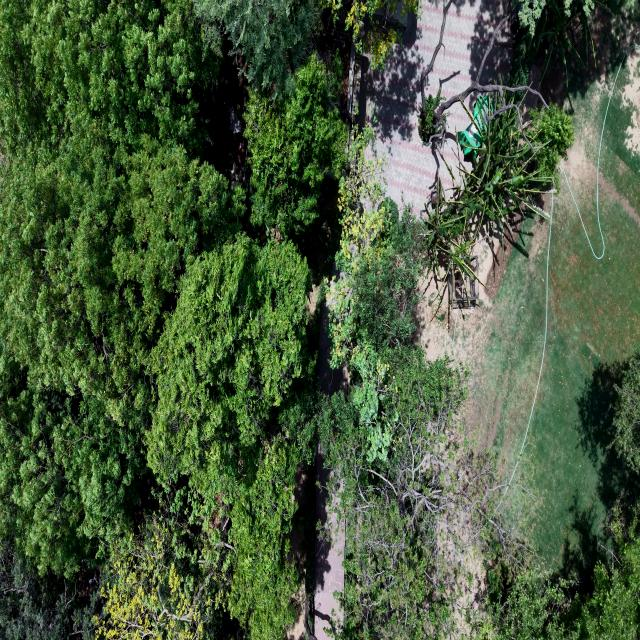DRY_AREA: (505, 56, 639, 575), (506, 55, 639, 573), (358, 2, 451, 213), (356, 2, 441, 213), (309, 449, 344, 639)
PATHWAYS: (352, 2, 441, 213)
VEGETATION_TREE: (0, 0, 637, 639), (0, 2, 314, 637), (317, 129, 636, 639), (0, 3, 237, 576), (317, 128, 520, 638), (0, 147, 237, 572), (317, 344, 639, 639), (317, 130, 492, 639), (146, 234, 313, 638), (318, 344, 490, 639), (418, 2, 572, 279), (147, 234, 309, 491), (324, 128, 428, 451), (425, 97, 572, 277), (418, 0, 572, 168), (474, 507, 639, 639), (244, 55, 346, 238), (93, 499, 220, 639), (194, 0, 319, 94), (0, 544, 99, 639), (577, 513, 639, 639), (509, 0, 595, 85), (322, 0, 419, 70), (527, 105, 572, 188), (613, 346, 639, 473)
